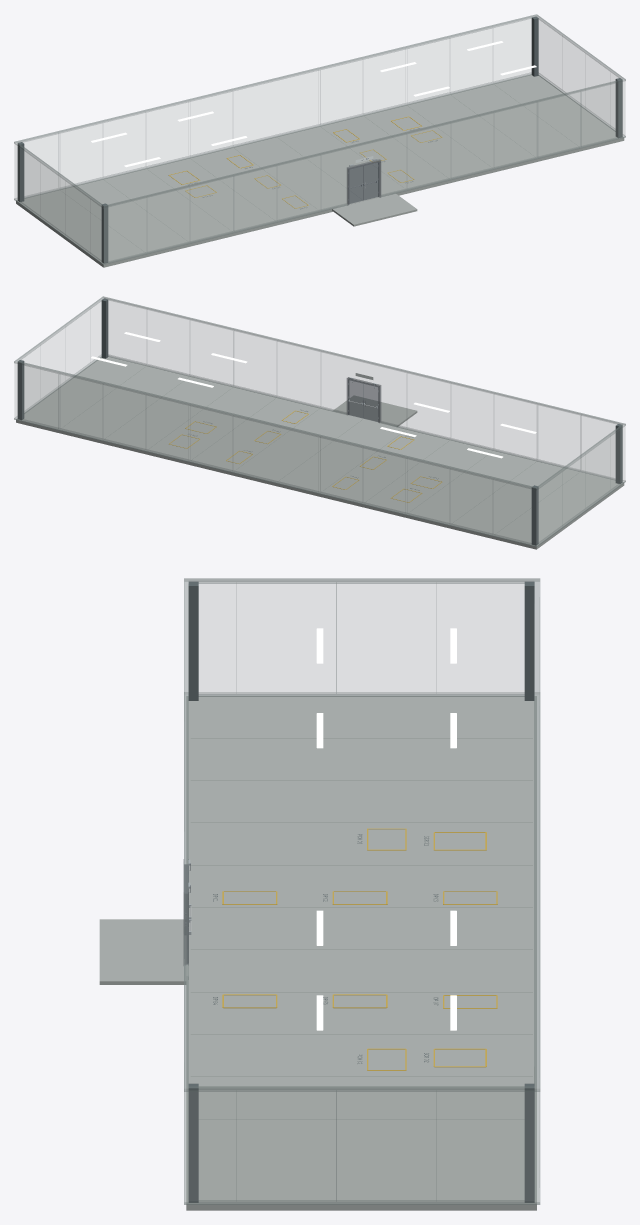
The model's file is fab1-room-subfab-north.glb.
3 views of the same model, one above another, from view 1: azimuth 30°, elevation 25°; view 2: azimuth 150°, elevation 25°; view 3: azimuth 270°, elevation 25° (orthographic). The views are drawn at different scales.
Parts seen in each view (by area): view 1: FAB1_Room_subfab_north_Walls, FAB1_Room_subfab_north_Slab, FAB1_Room_subfab_north_EntryApron, FAB1_Room_subfab_north_Door_Leaf2, FAB1_Room_subfab_north_Door_Leaf1, FAB1_Room_subfab_north_Column_(-17.78, 11.78), FAB1_Room_subfab_north_Column_(17.78, 1.72), FAB1_Room_subfab_north_Column_(-17.78, 1.72), FAB1_Room_subfab_north_Column_(17.78, 11.78); view 2: FAB1_Room_subfab_north_Walls, FAB1_Room_subfab_north_Slab, FAB1_Room_subfab_north_EntryApron, FAB1_Room_subfab_north_Door_Leaf2, FAB1_Room_subfab_north_Door_Leaf1, FAB1_Room_subfab_north_Column_(17.78, 1.72), FAB1_Room_subfab_north_Column_(-17.78, 11.78), FAB1_Room_subfab_north_Column_(17.78, 11.78), FAB1_Room_subfab_north_Column_(-17.78, 1.72); view 3: FAB1_Room_subfab_north_Slab, FAB1_Room_subfab_north_Walls, FAB1_Room_subfab_north_EntryApron, FAB1_Room_subfab_north_Column_(17.78, 1.72), FAB1_Room_subfab_north_Column_(-17.78, 1.72), FAB1_Room_subfab_north_Column_(-17.78, 11.78), FAB1_Room_subfab_north_Column_(17.78, 11.78).
Boxes of the visible parts, x1=… form: FAB1_Room_subfab_north_Walls: x1=14, y1=14, x2=625, y2=264; FAB1_Room_subfab_north_Slab: x1=16, y1=75, x2=624, y2=267; FAB1_Room_subfab_north_EntryApron: x1=332, y1=193, x2=417, y2=226; FAB1_Room_subfab_north_Door_Leaf2: x1=363, y1=162, x2=378, y2=200; FAB1_Room_subfab_north_Door_Leaf1: x1=349, y1=166, x2=363, y2=203; FAB1_Room_subfab_north_Column_(-17.78, 11.78): x1=17, y1=142, x2=24, y2=202; FAB1_Room_subfab_north_Column_(17.78, 1.72): x1=615, y1=78, x2=622, y2=137; FAB1_Room_subfab_north_Column_(-17.78, 1.72): x1=101, y1=203, x2=108, y2=263; FAB1_Room_subfab_north_Column_(17.78, 11.78): x1=531, y1=16, x2=538, y2=76; FAB1_Room_subfab_north_Walls: x1=14, y1=296, x2=625, y2=546; FAB1_Room_subfab_north_Slab: x1=16, y1=356, x2=624, y2=549; FAB1_Room_subfab_north_EntryApron: x1=333, y1=395, x2=417, y2=426; FAB1_Room_subfab_north_Door_Leaf2: x1=348, y1=380, x2=363, y2=418; FAB1_Room_subfab_north_Door_Leaf1: x1=363, y1=384, x2=378, y2=421; FAB1_Room_subfab_north_Column_(17.78, 1.72): x1=101, y1=298, x2=108, y2=358; FAB1_Room_subfab_north_Column_(-17.78, 11.78): x1=531, y1=485, x2=538, y2=545; FAB1_Room_subfab_north_Column_(17.78, 11.78): x1=17, y1=360, x2=24, y2=419; FAB1_Room_subfab_north_Column_(-17.78, 1.72): x1=615, y1=424, x2=622, y2=483; FAB1_Room_subfab_north_Slab: x1=186, y1=696, x2=536, y2=1210; FAB1_Room_subfab_north_Walls: x1=183, y1=578, x2=540, y2=1204; FAB1_Room_subfab_north_EntryApron: x1=99, y1=919, x2=185, y2=984; FAB1_Room_subfab_north_Column_(17.78, 1.72): x1=188, y1=1083, x2=198, y2=1202; FAB1_Room_subfab_north_Column_(-17.78, 1.72): x1=188, y1=581, x2=198, y2=700; FAB1_Room_subfab_north_Column_(-17.78, 11.78): x1=524, y1=581, x2=534, y2=700; FAB1_Room_subfab_north_Column_(17.78, 11.78): x1=524, y1=1083, x2=534, y2=1202.
Size of what is drawn, in the model's own units: 36.16 by 4.22 by 13.2.
6 materials, 1 textured.
